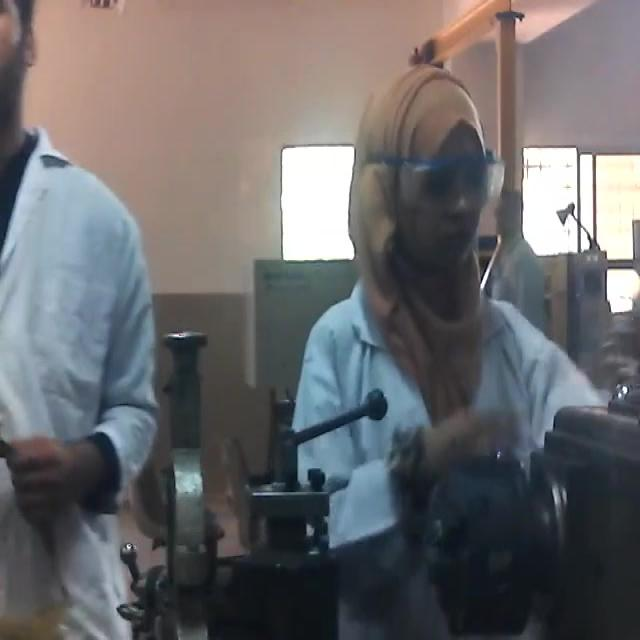googles: (389, 142, 511, 210)
labcoat: (299, 258, 609, 565), (1, 134, 161, 640)
